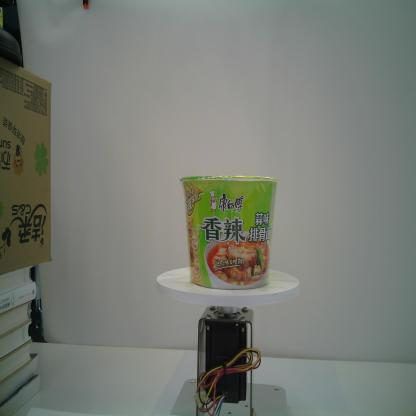Instant Noodles: (178, 172, 280, 293)
